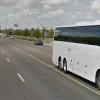Bus: (49, 20, 100, 96)
